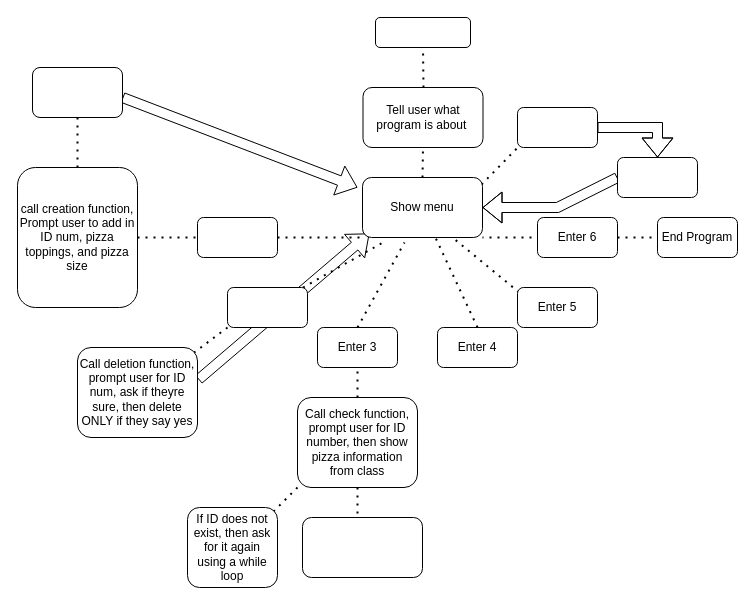
This 755x605 diagram has some shape labels left out. The shapes that lost their labels are listed below. From the top down, each one's centre as x and y in pixels, then its label:
At point 422,32: "Start Program".
At point 77,92: "saved to data bank class, goes back to menu".
At point 557,127: "Enter other".
At point 657,177: "Invalid, back to menu".
At point 237,237: "Enter 1".
At point 267,307: "Enter 2".
